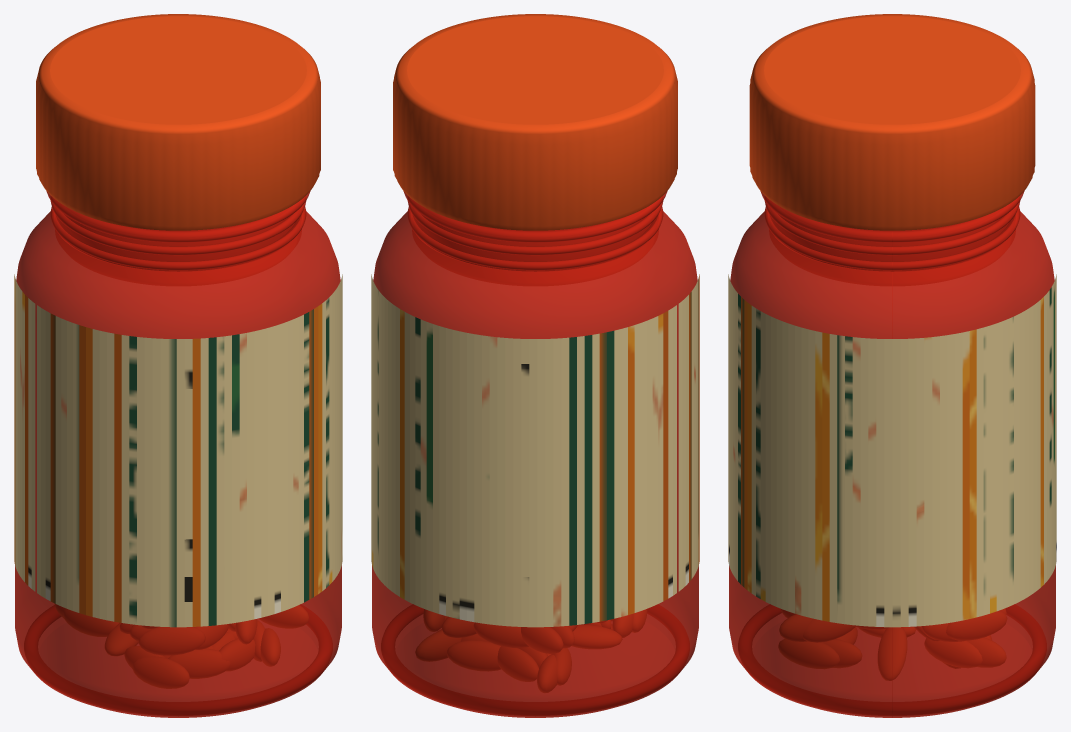
Rendered from vitamins_uv2.glb.
The picture shows the model from 3 angles, left to right: view 1: azimuth 30°, elevation 25°; view 2: azimuth 150°, elevation 25°; view 3: azimuth 270°, elevation 25°; orthographic projection.
Visible parts, largest first — view 1: wrap_label, bottle_shell, cap_skirt, cap_top, neck, tablets, bottle_base, safety_ring, thread_ring_01, thread_ring_02; view 2: wrap_label, bottle_shell, cap_skirt, cap_top, neck, tablets, bottle_base, safety_ring, thread_ring_01, thread_ring_02; view 3: wrap_label, bottle_shell, cap_skirt, cap_top, neck, tablets, bottle_base, safety_ring, thread_ring_01, thread_ring_02.
Part boxes in pixels (x1=…): wrap_label: x1=14, y1=274, x2=342, y2=627; bottle_shell: x1=15, y1=211, x2=341, y2=717; cap_skirt: x1=36, y1=71, x2=320, y2=230; cap_top: x1=38, y1=14, x2=318, y2=134; neck: x1=55, y1=207, x2=301, y2=285; tablets: x1=55, y1=604, x2=308, y2=688; bottle_base: x1=24, y1=604, x2=332, y2=715; safety_ring: x1=46, y1=191, x2=310, y2=242; thread_ring_01: x1=50, y1=206, x2=306, y2=270; thread_ring_02: x1=50, y1=201, x2=306, y2=255; wrap_label: x1=371, y1=274, x2=699, y2=627; bottle_shell: x1=372, y1=211, x2=698, y2=717; cap_skirt: x1=393, y1=71, x2=677, y2=230; cap_top: x1=395, y1=14, x2=675, y2=134; neck: x1=412, y1=207, x2=658, y2=285; tablets: x1=415, y1=609, x2=646, y2=692; bottle_base: x1=381, y1=604, x2=689, y2=715; safety_ring: x1=403, y1=191, x2=667, y2=242; thread_ring_01: x1=407, y1=206, x2=663, y2=270; thread_ring_02: x1=407, y1=201, x2=663, y2=255; wrap_label: x1=728, y1=274, x2=1056, y2=627; bottle_shell: x1=729, y1=211, x2=1055, y2=717; cap_skirt: x1=749, y1=71, x2=1035, y2=230; cap_top: x1=752, y1=14, x2=1032, y2=134; neck: x1=769, y1=207, x2=1015, y2=285; tablets: x1=778, y1=609, x2=1006, y2=680; bottle_base: x1=738, y1=604, x2=1046, y2=715; safety_ring: x1=760, y1=191, x2=1024, y2=242; thread_ring_01: x1=764, y1=206, x2=1020, y2=270; thread_ring_02: x1=764, y1=201, x2=1020, y2=255.
Bounding box in the file's own units: 0.0532 × 0.1051 × 0.0532.
Materials: 4 (1 with a texture image).
